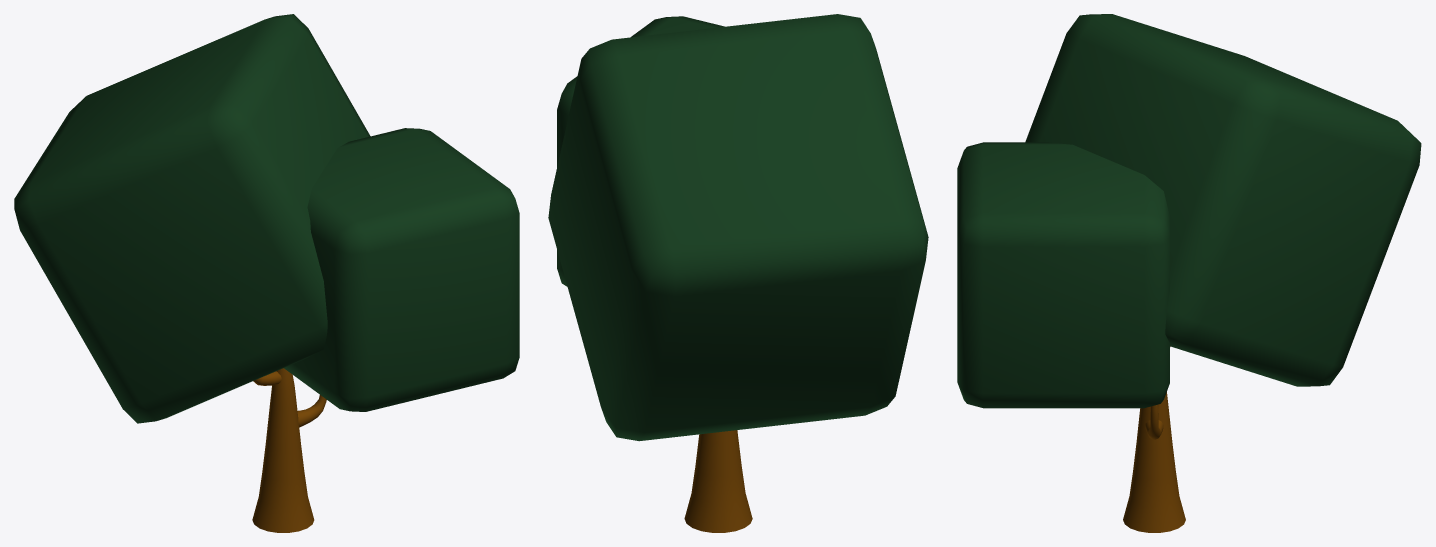
The model's file is Tree2.fbx.
The picture shows the model from 3 angles, left to right: view 1: azimuth 30°, elevation 25°; view 2: azimuth 150°, elevation 25°; view 3: azimuth 270°, elevation 25°; orthographic projection. The views are drawn at different scales.
Parts seen in each view (by area): view 1: Tree2; view 2: Tree2; view 3: Tree2.
Part boxes in pixels (x1,y1,x2,y2): Tree2: [14, 14, 519, 532]; Tree2: [548, 14, 928, 532]; Tree2: [957, 14, 1421, 532].
Bounding box in the file's own units: 774 × 899 × 815.
